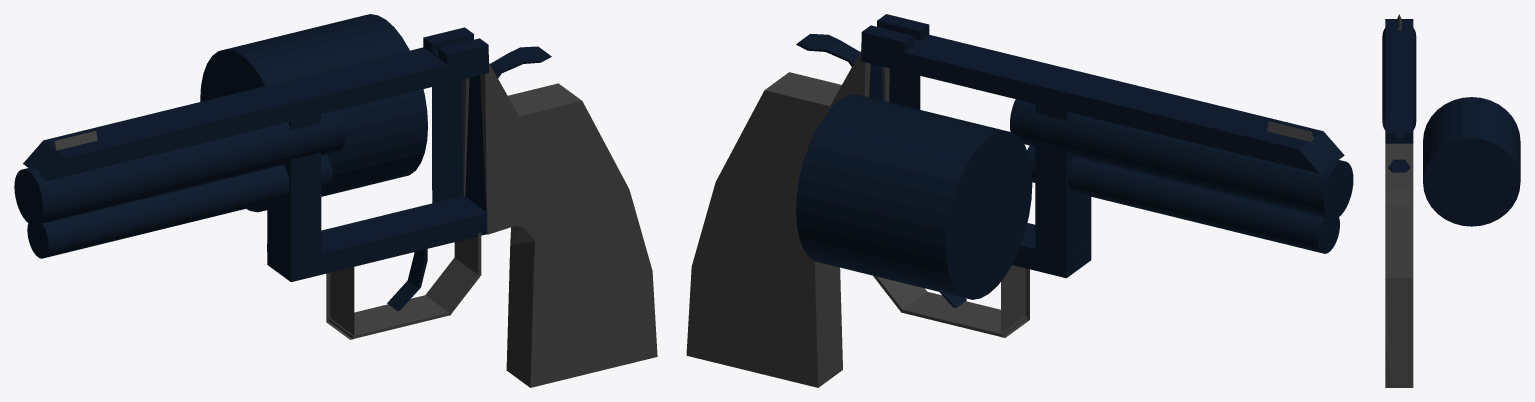
Rendered from revolver0030.obj.
3 views of the same model, side by side, from view 1: azimuth 30°, elevation 25°; view 2: azimuth 150°, elevation 25°; view 3: azimuth 270°, elevation 25° (orthographic). The views are drawn at different scales.
Parts seen in each view (by area): view 1: Cube, upperFrame, bulletCylinder, barrel, cleaningRod, Cube.001, Cube.002, triggerGuard.002, Cube.003, triggerGuard.001, trigger, trigger2 (+1 smaller); view 2: bulletCylinder, Cube, upperFrame, barrel, cleaningRod, Cube.002, triggerGuard.002, Cube.001, Cube.003, trigger2, triggerGuard.001; view 3: bulletCylinder, Cube, upperFrame, barrel, Cube.003, trigger2.
Part boxes in pixels (box(x1,y1,x2,y2)): Cube: box(326, 63, 657, 387); upperFrame: box(23, 47, 488, 211); bulletCylinder: box(200, 14, 427, 212); barrel: box(14, 109, 345, 225); cleaningRod: box(27, 154, 332, 258); Cube.001: box(267, 196, 487, 281); Cube.002: box(267, 110, 321, 263); triggerGuard.002: box(329, 295, 451, 338); Cube.003: box(423, 27, 488, 65); triggerGuard.001: box(425, 258, 479, 313); trigger: box(387, 249, 427, 310); trigger2: box(490, 46, 551, 78); bulletCylinder: box(796, 94, 1032, 299); Cube: box(686, 51, 1029, 387); upperFrame: box(861, 34, 1344, 173); barrel: box(1010, 99, 1353, 219); cleaningRod: box(1027, 145, 1339, 253); Cube.002: box(1035, 101, 1091, 264); triggerGuard.002: box(900, 292, 1027, 337); Cube.001: box(1012, 223, 1091, 278); Cube.003: box(861, 14, 929, 54); trigger2: box(796, 34, 859, 66); triggerGuard.001: box(873, 275, 927, 311); bulletCylinder: box(1423, 97, 1520, 226); Cube: box(1385, 143, 1413, 387); upperFrame: box(1385, 19, 1413, 143); barrel: box(1382, 28, 1416, 130); Cube.003: box(1385, 121, 1413, 138); trigger2: box(1388, 159, 1410, 172).
Size of the model in its own units: 2.98 by 1.63 by 0.9883.
